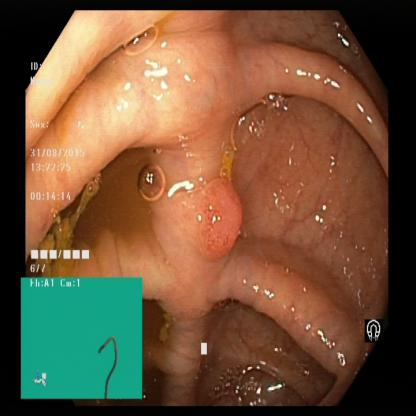Polyps: (171, 153, 251, 270)
